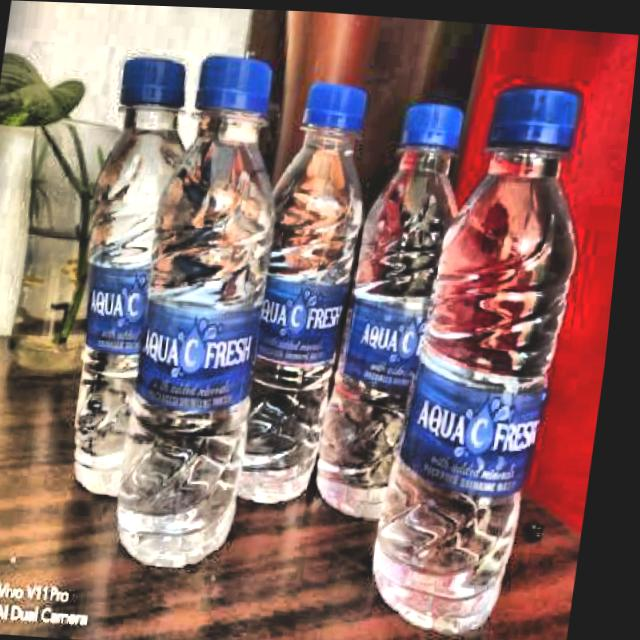Bottles: (377, 68, 616, 640), (99, 43, 327, 582), (47, 38, 221, 517), (319, 77, 487, 535), (231, 73, 388, 516)
